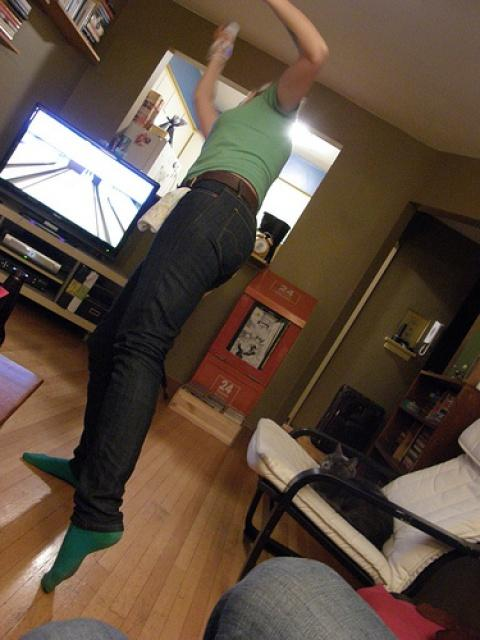AIO PC-Monitor-TV: (0, 100, 160, 262)
